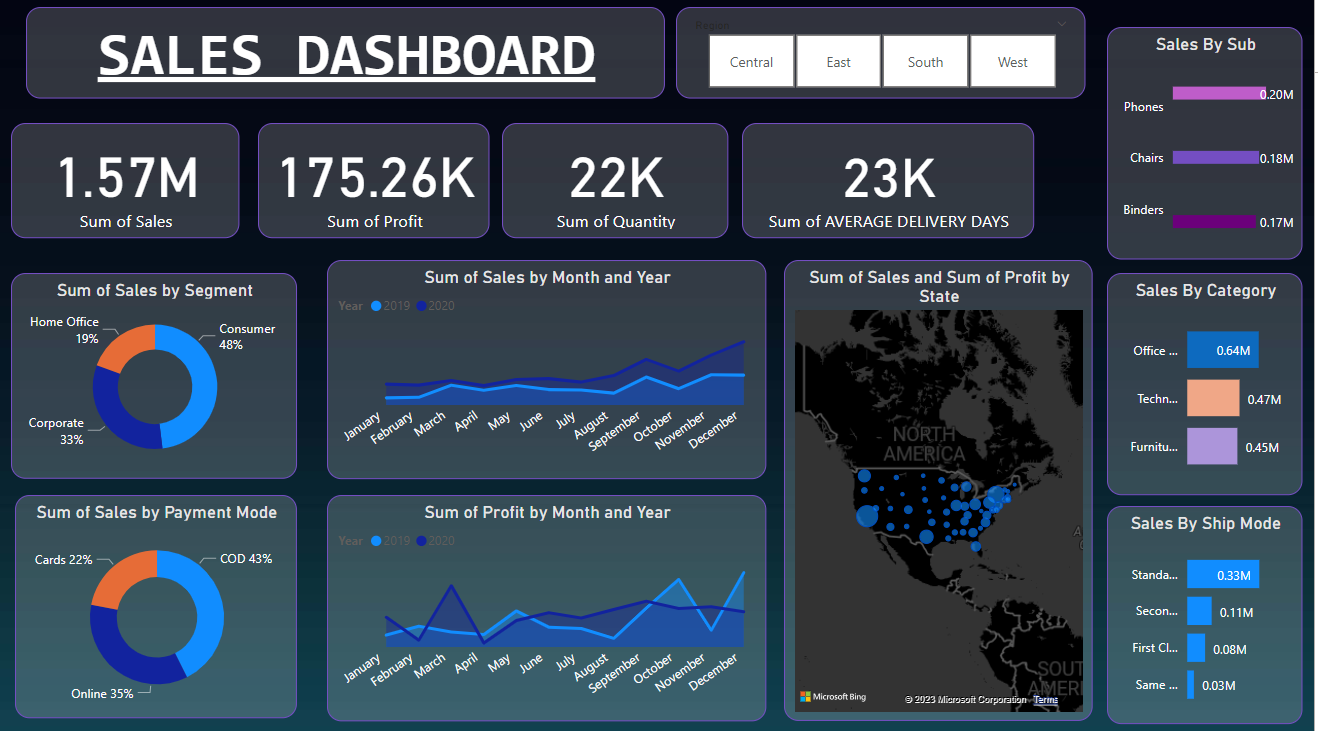

What the dashboard file says about the page in this screenshot:
{"tool":"powerbi","page":{"name":"Page 1","canvas":[1280,720],"ordinal":0},"visuals":[{"type":"clusteredBarChart","title":"Sales By Category","fields":{"Category":["SuperStore_Sales_Dataset.Category"],"Y":["Sum(SuperStore_Sales_Dataset.Sales)"]},"box":[1078.8,273.1,190.5,215.8],"z":0},{"type":"clusteredBarChart","title":"Sales By Sub ","fields":{"Category":["SuperStore_Sales_Dataset.Sub-Category"],"Y":["Sum(SuperStore_Sales_Dataset.Sales)"],"Series":["SuperStore_Sales_Dataset.Sub-Category"]},"box":[1078.8,34,190.5,226.5],"z":1000},{"type":"clusteredBarChart","title":"Sales By Ship Mode","fields":{"Category":["SuperStore_Sales_Dataset.Ship Mode"],"Y":["Sum(SuperStore_Sales_Dataset.Sales)"]},"box":[1078.8,499.6,190.5,211.9],"z":2000},{"type":"areaChart","fields":{"Series":["SuperStore_Sales_Dataset.Order Date.Variation.Date Hierarchy.Year"],"Category":["SuperStore_Sales_Dataset.Order Date.Variation.Date Hierarchy.Month","SuperStore_Sales_Dataset.Order Date.Variation.Date Hierarchy.Day"],"Y":["Sum(SuperStore_Sales_Dataset.Profit)"]},"box":[320.7,488.9,426.7,219.7],"z":3000},{"type":"areaChart","fields":{"Series":["SuperStore_Sales_Dataset.Order Date.Variation.Date Hierarchy.Year"],"Category":["SuperStore_Sales_Dataset.Order Date.Variation.Date Hierarchy.Month","SuperStore_Sales_Dataset.Order Date.Variation.Date Hierarchy.Day"],"Y":["Sum(SuperStore_Sales_Dataset.Sales)"]},"box":[320.7,260.5,426.7,212.8],"z":4000},{"type":"map","fields":{"Category":["SuperStore_Sales_Dataset.State"],"Size":["Sum(SuperStore_Sales_Dataset.Sales)"]},"box":[764.9,260.5,300.3,448],"z":5000},{"type":"donutChart","fields":{"Category":["SuperStore_Sales_Dataset.Segment"],"Y":["Sum(SuperStore_Sales_Dataset.Sales)"]},"box":[13.6,273.1,278,200.2],"z":6000},{"type":"donutChart","fields":{"Category":["SuperStore_Sales_Dataset.Payment Mode"],"Y":["Sum(SuperStore_Sales_Dataset.Sales)"]},"box":[17.5,488.9,274.1,216.7],"z":7000},{"type":"slicer","fields":{"Values":["SuperStore_Sales_Dataset.Region"]},"box":[659.9,14.6,398.5,89.4],"z":8000},{"type":"textbox","box":[28.2,14.6,621,89.4],"z":9000},{"type":"card","fields":{"Values":["Sum(SuperStore_Sales_Dataset.Sales)"]},"box":[13.6,127.3,221.6,111.8],"z":10000},{"type":"card","fields":{"Values":["Sum(SuperStore_Sales_Dataset.Profit)"]},"box":[253.7,127.3,225.5,111.8],"z":11000},{"type":"card","fields":{"Values":["Sum(SuperStore_Sales_Dataset.Quantity)"]},"box":[490.8,127.3,219.7,111.8],"z":12000},{"type":"card","fields":{"Values":["Sum(SuperStore_Sales_Dataset.AVERAGE DELIVERY DAYS)"]},"box":[724.1,127.3,283.8,111.8],"z":13000}]}

Visuals, with their boxes in screenshot pixels (x1, y1, x2, y2), scaled from the page's 1280x720 canvas onto the 1318x731 screenshot:
"Sales By Category" clusteredBarChart: locate(1111, 277, 1307, 496)
"Sales By Sub " clusteredBarChart: locate(1111, 35, 1307, 264)
"Sales By Ship Mode" clusteredBarChart: locate(1111, 507, 1307, 722)
areaChart - SuperStore_Sales_Dataset.Order Date.Variation.Date Hierarchy.Year x SuperStore_Sales_Dataset.Order Date.Variation.Date Hierarchy.Month: locate(330, 496, 770, 719)
areaChart - SuperStore_Sales_Dataset.Order Date.Variation.Date Hierarchy.Year x SuperStore_Sales_Dataset.Order Date.Variation.Date Hierarchy.Month: locate(330, 264, 770, 481)
map - SuperStore_Sales_Dataset.State x Sum(SuperStore_Sales_Dataset.Sales): locate(788, 264, 1097, 719)
donutChart - SuperStore_Sales_Dataset.Segment x Sum(SuperStore_Sales_Dataset.Sales): locate(14, 277, 300, 481)
donutChart - SuperStore_Sales_Dataset.Payment Mode x Sum(SuperStore_Sales_Dataset.Sales): locate(18, 496, 300, 716)
slicer - SuperStore_Sales_Dataset.Region: locate(679, 15, 1090, 106)
textbox: locate(29, 15, 668, 106)
card - Sum(SuperStore_Sales_Dataset.Sales): locate(14, 129, 242, 243)
card - Sum(SuperStore_Sales_Dataset.Profit): locate(261, 129, 493, 243)
card - Sum(SuperStore_Sales_Dataset.Quantity): locate(505, 129, 732, 243)
card - Sum(SuperStore_Sales_Dataset.AVERAGE DELIVERY DAYS): locate(746, 129, 1038, 243)
